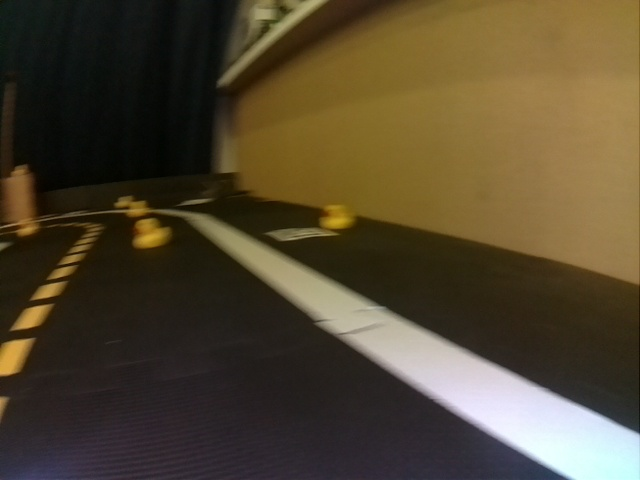Duckie: (132, 220, 172, 247), (321, 204, 353, 228), (130, 201, 148, 216), (116, 196, 131, 208), (13, 165, 27, 175)
QR code: (269, 228, 339, 240)
